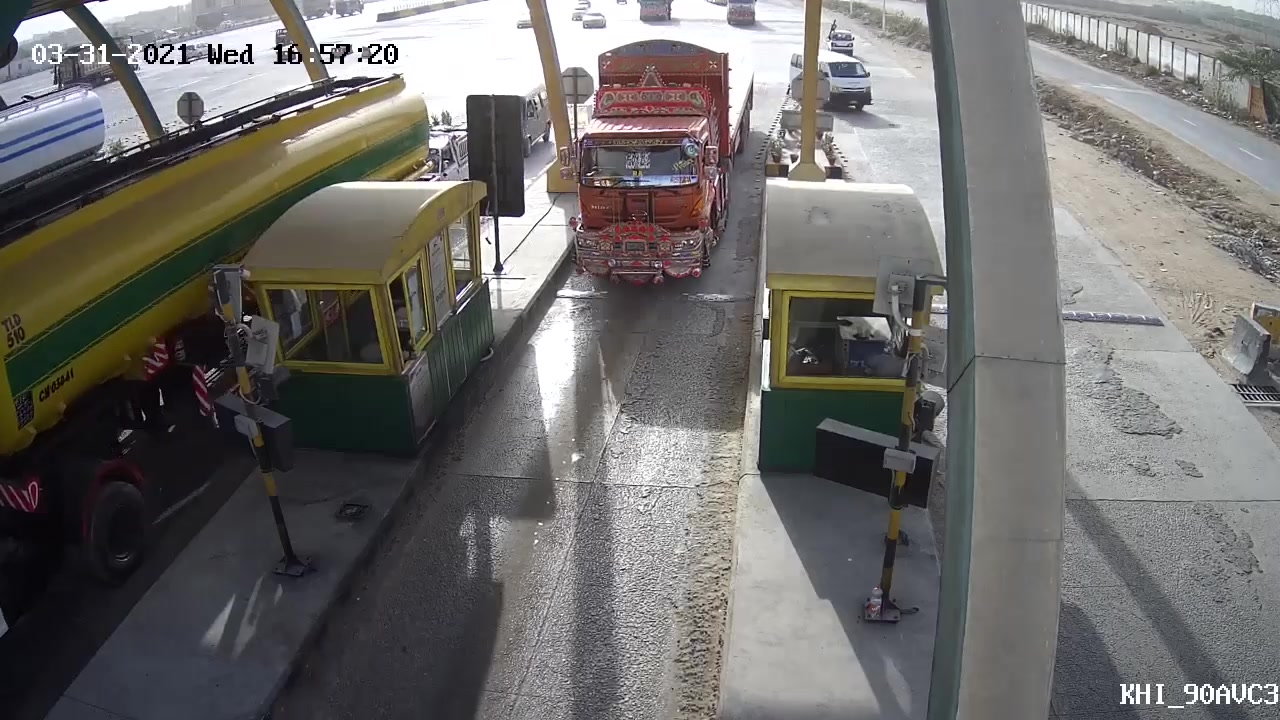F6: (553, 36, 760, 297)
